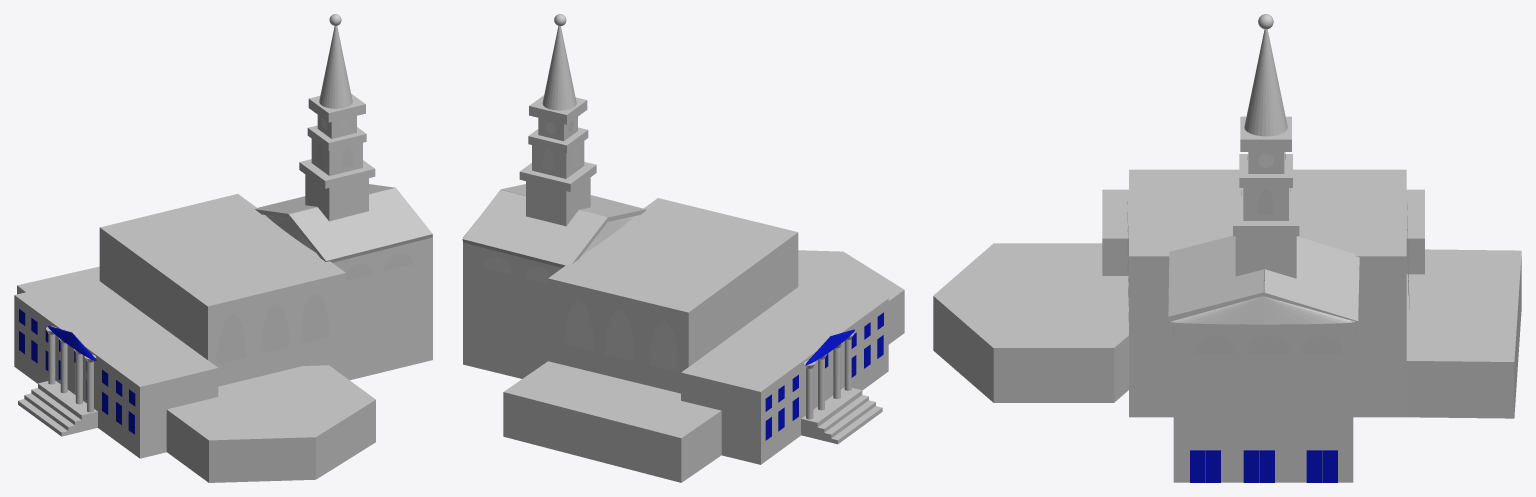
File: marquisv.3.obj
3 renders of one model, left to right at view 1: azimuth 30°, elevation 25°; view 2: azimuth 150°, elevation 25°; view 3: azimuth 270°, elevation 25°, orthographic. The views are drawn at different scales.
Parts seen in each view (by area): view 1: Cube.024; view 2: Cube.024; view 3: Cube.024.
Boxes of the visible parts, x1,y1,x2,y2 form: Cube.024: [14, 14, 433, 482]; Cube.024: [462, 14, 904, 482]; Cube.024: [933, 14, 1521, 482].
Bounding box in the file's own units: 68.9 × 61.08 × 75.86.
